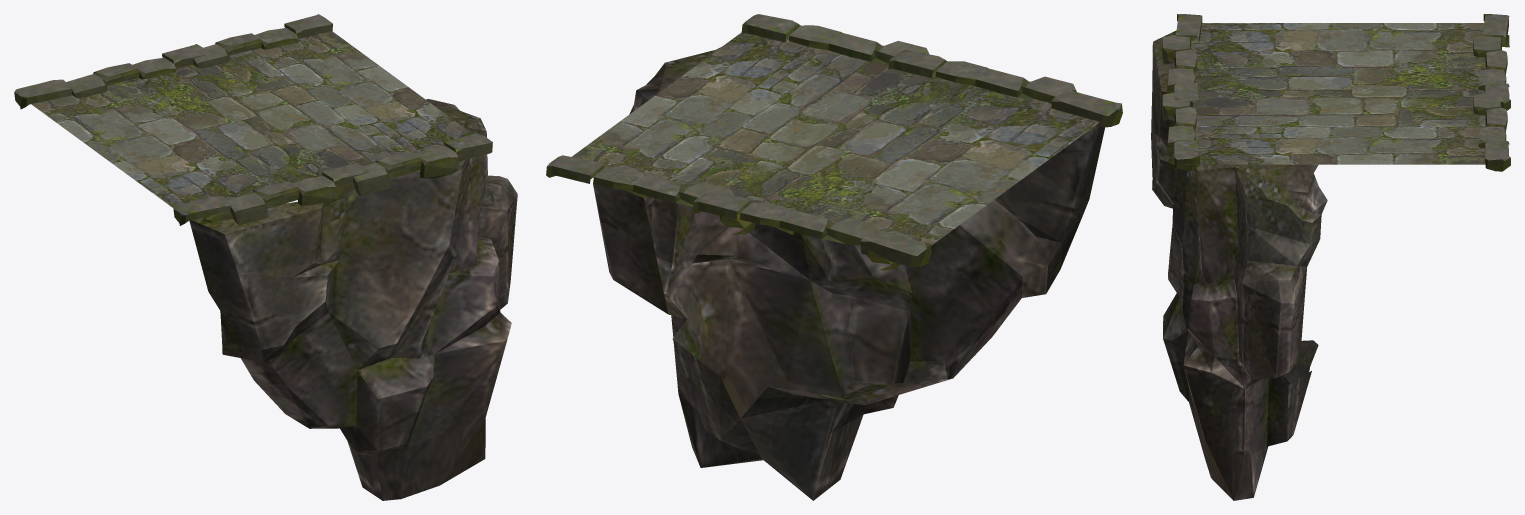
File: S2_Build_XSC076.FBX
3 views of the same model, side by side, from view 1: azimuth 30°, elevation 25°; view 2: azimuth 150°, elevation 25°; view 3: azimuth 270°, elevation 25° (orthographic). The views are drawn at different scales.
Visible parts, largest first — view 1: S2_Build_XSC076; view 2: S2_Build_XSC076; view 3: S2_Build_XSC076.
Boxes of the visible parts, box(x1,y1,x2,y2) form: S2_Build_XSC076: box(14, 14, 517, 500); S2_Build_XSC076: box(546, 14, 1122, 500); S2_Build_XSC076: box(1151, 14, 1510, 500).
Size of the model in its own units: 383 by 336 by 320.
